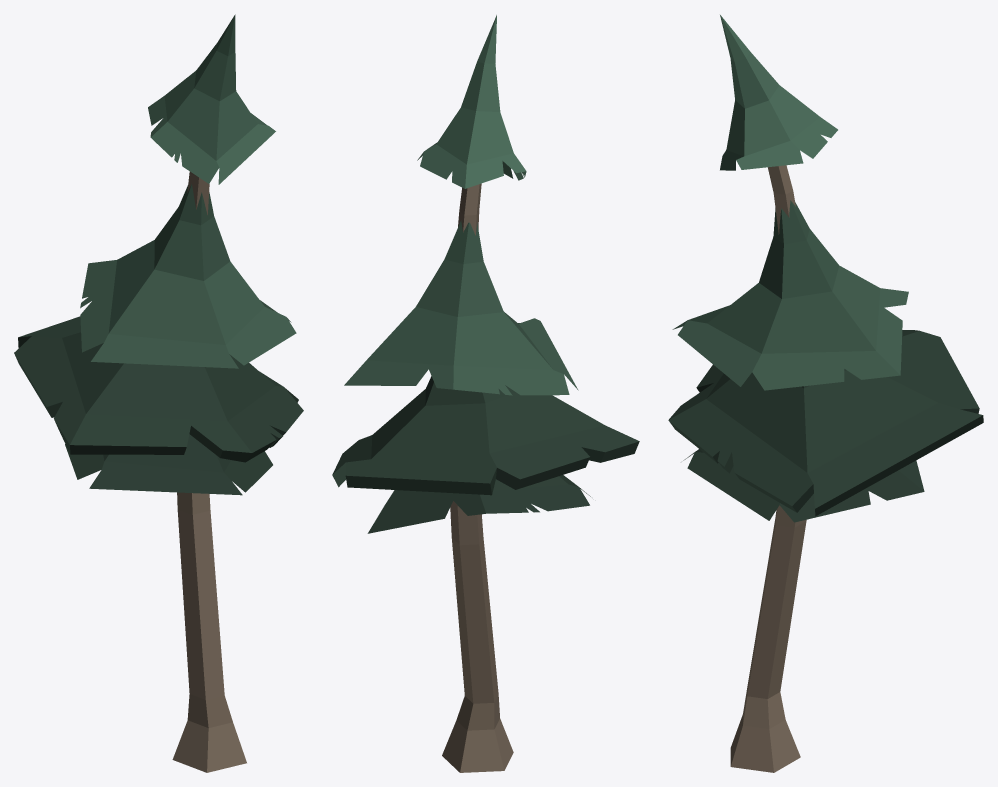
File: Pine1.glb
The picture shows the model from 3 angles, left to right: view 1: azimuth 30°, elevation 25°; view 2: azimuth 150°, elevation 25°; view 3: azimuth 270°, elevation 25°; orthographic projection. The views are drawn at different scales.
Visible parts, largest first — view 1: feuill.003; view 2: feuill.003; view 3: feuill.003.
Part boxes in pixels (<box>): feuill.003: <box>14,14,303,772</box>; feuill.003: <box>332,15,639,772</box>; feuill.003: <box>668,15,983,772</box>.
Bounding box in the file's own units: 22.8 × 61.33 × 23.54.
